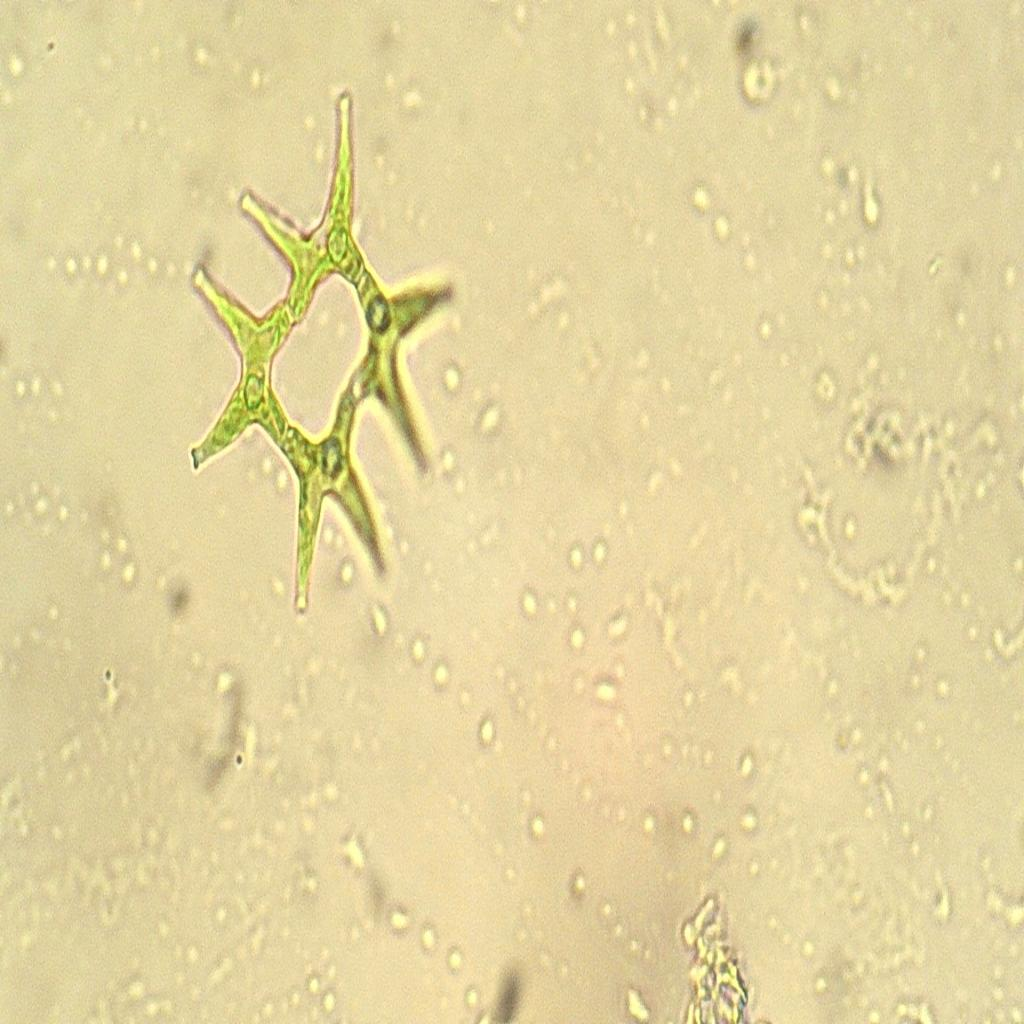Pediastrum_75O: (169, 68, 478, 634)
